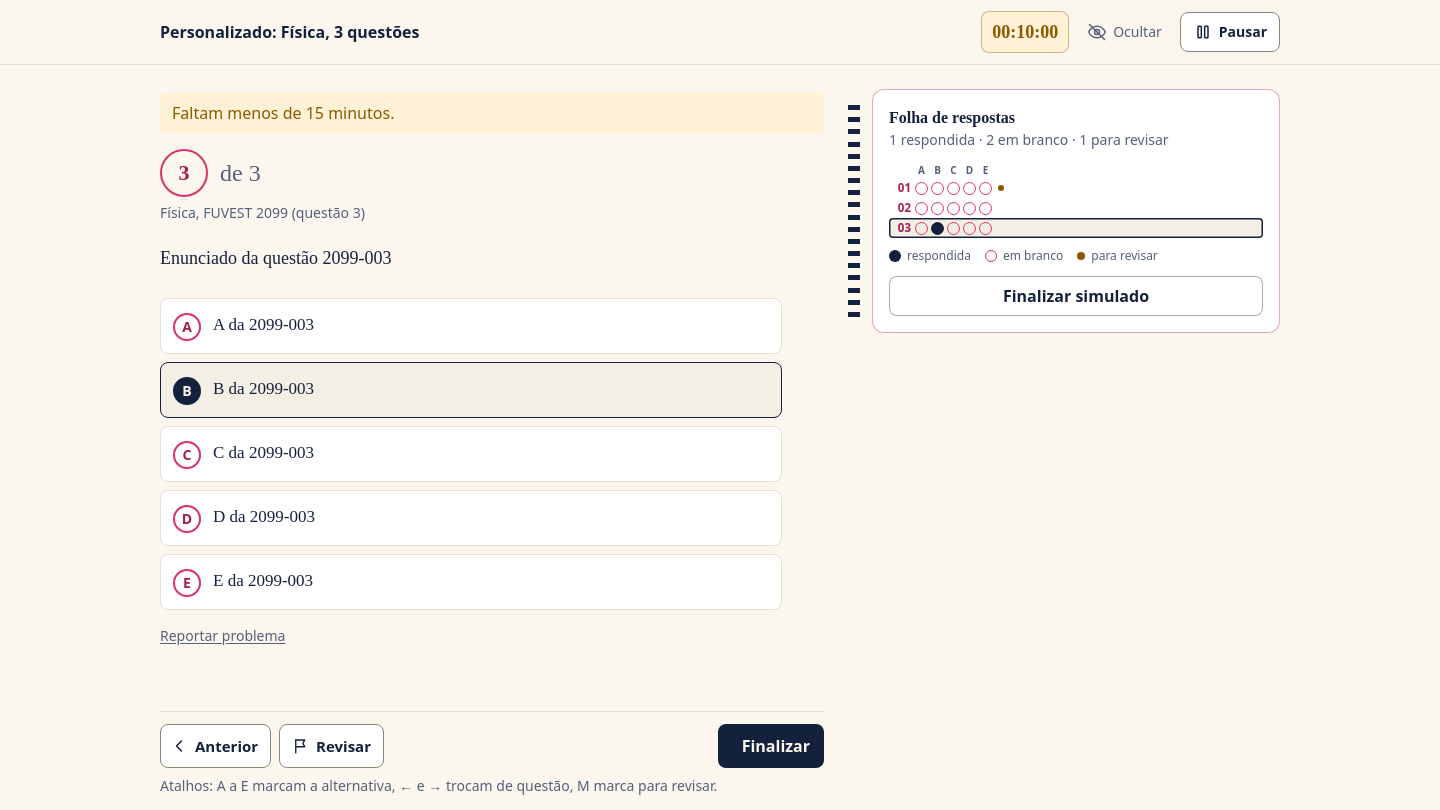
Scenario: Resolução: navegação, folha e modo foco (CR-001) › na última questão "Próxima" vira "Finalizar" e a confirmação cita as marcadas (D1)
Expected: the text "Enunciado da questão 2099-003" is shown, [160,248,392,268]
Click the button with aria-label "Finalizar o simulado" at (771,746), box [718,724,824,768]
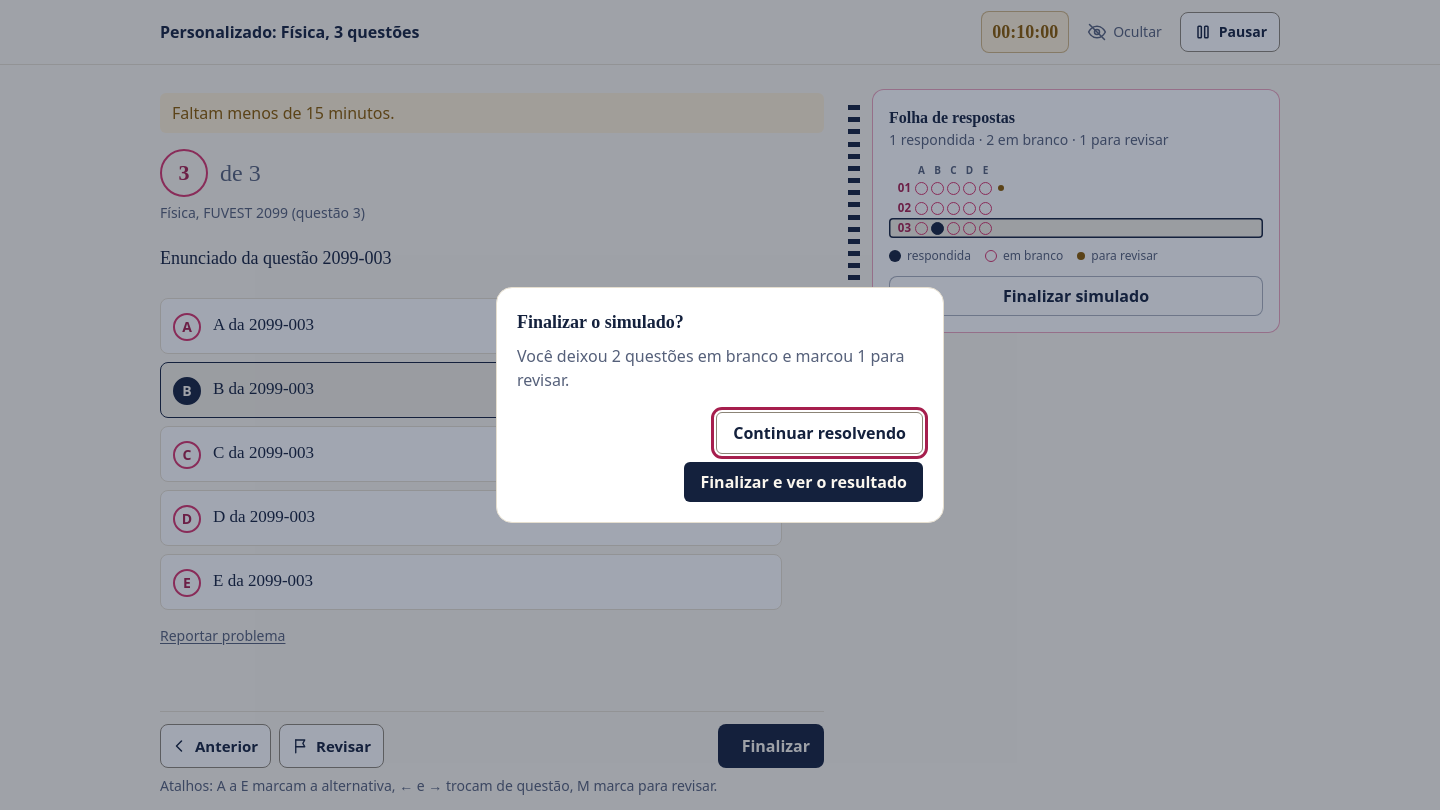
Now the dialog "Finalizar o simulado?" shows "Você deixou 2 questões em branco e marcou 1 para revisar.", box [496,287,944,523]
Click the button "Continuar resolvendo" at (820,433), box [716,412,923,454]
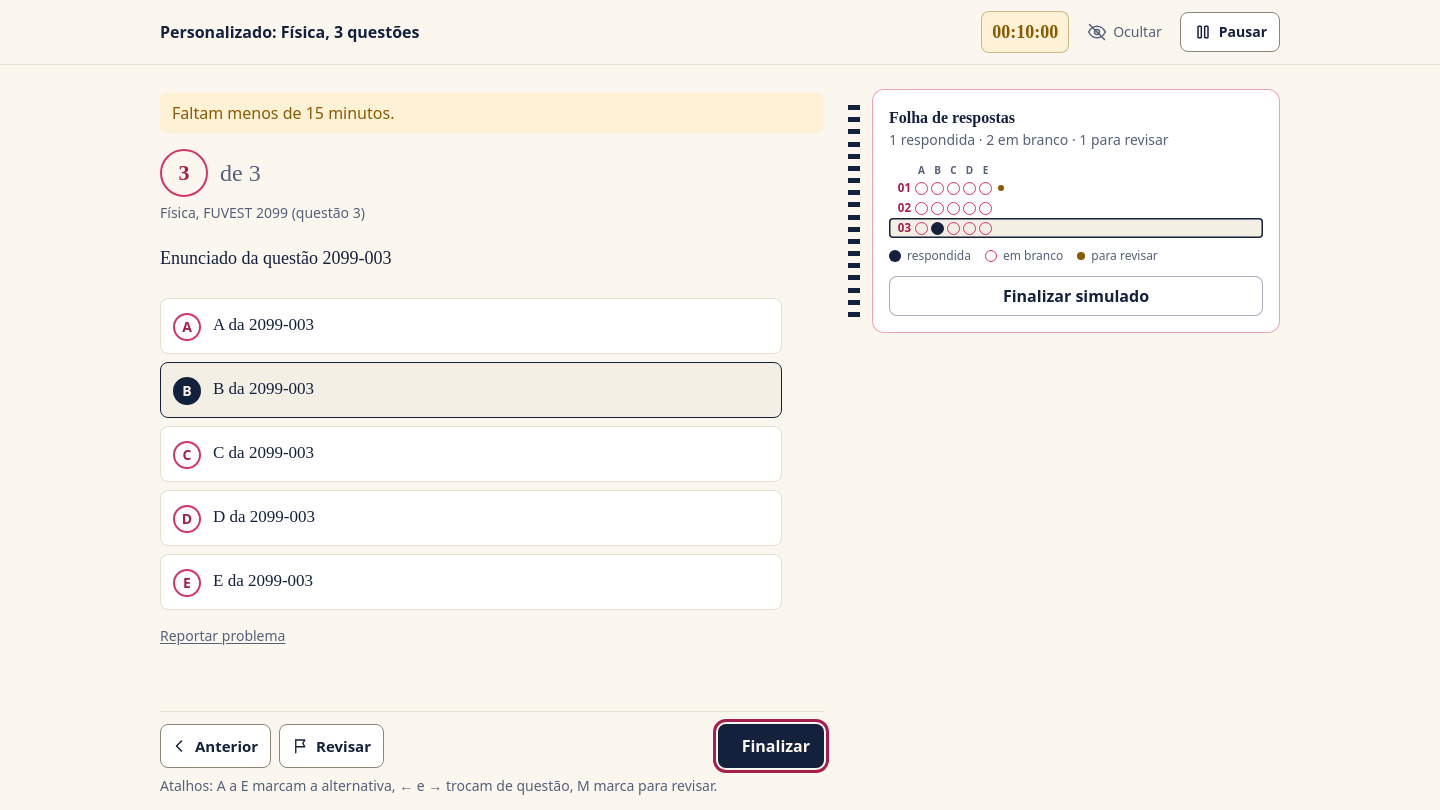
Now the dialog is gone
